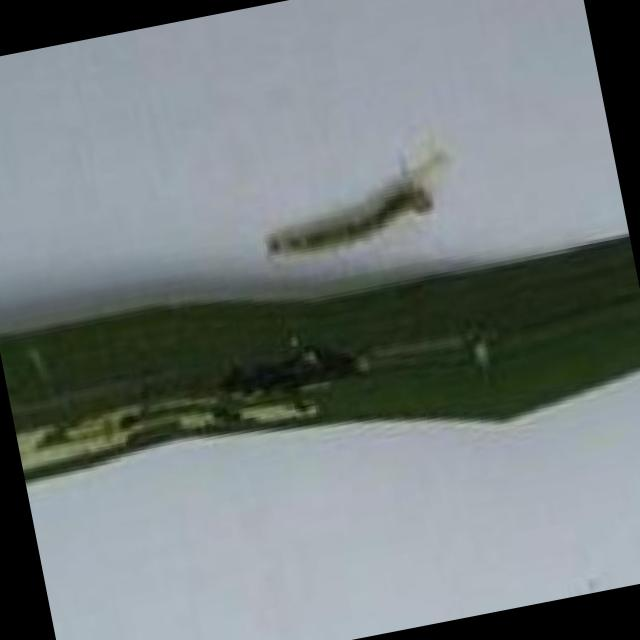leaf-folder: (244, 132, 466, 281)
